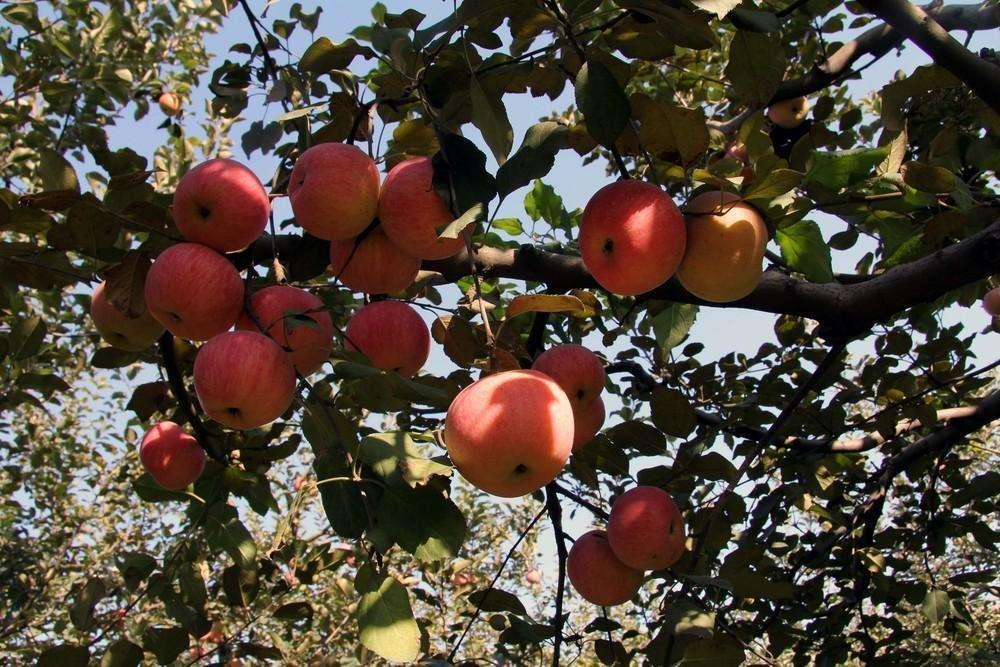apple: (441, 371, 576, 499), (575, 180, 690, 299), (189, 327, 296, 430), (674, 192, 769, 302), (169, 157, 268, 254), (286, 141, 382, 239), (146, 244, 241, 342), (374, 154, 461, 257), (245, 284, 332, 380), (89, 249, 166, 353), (339, 298, 431, 379), (604, 485, 685, 571), (327, 223, 422, 295), (565, 526, 643, 606), (528, 345, 605, 409), (136, 420, 205, 489)
